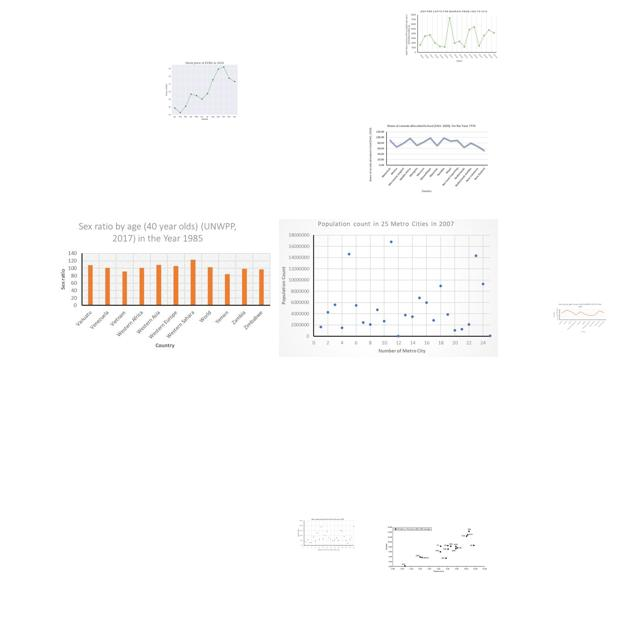Graph: (279, 219, 498, 357), (54, 219, 273, 351), (365, 123, 491, 194), (156, 57, 251, 122), (385, 521, 487, 574), (404, 9, 498, 63), (297, 518, 355, 551), (553, 302, 607, 333)
